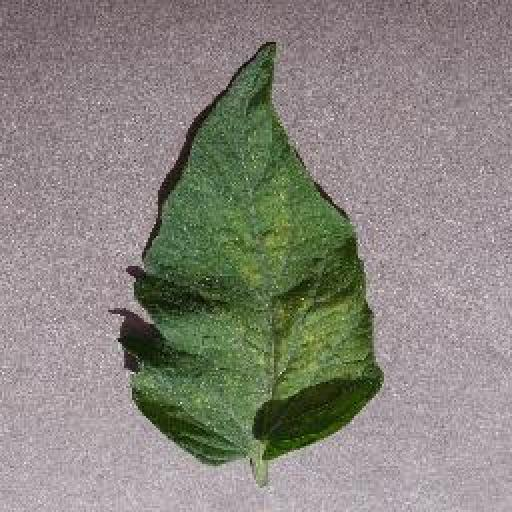disease_tomato: (120, 40, 383, 467)
